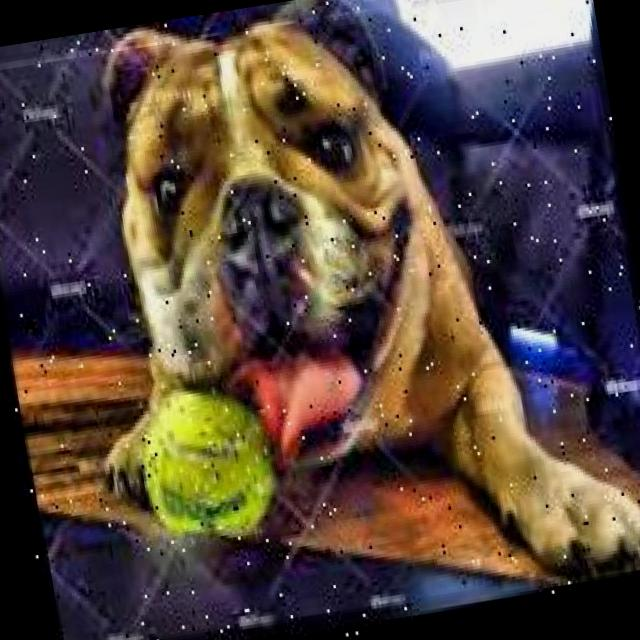Tennis Ball: (124, 376, 286, 561)
